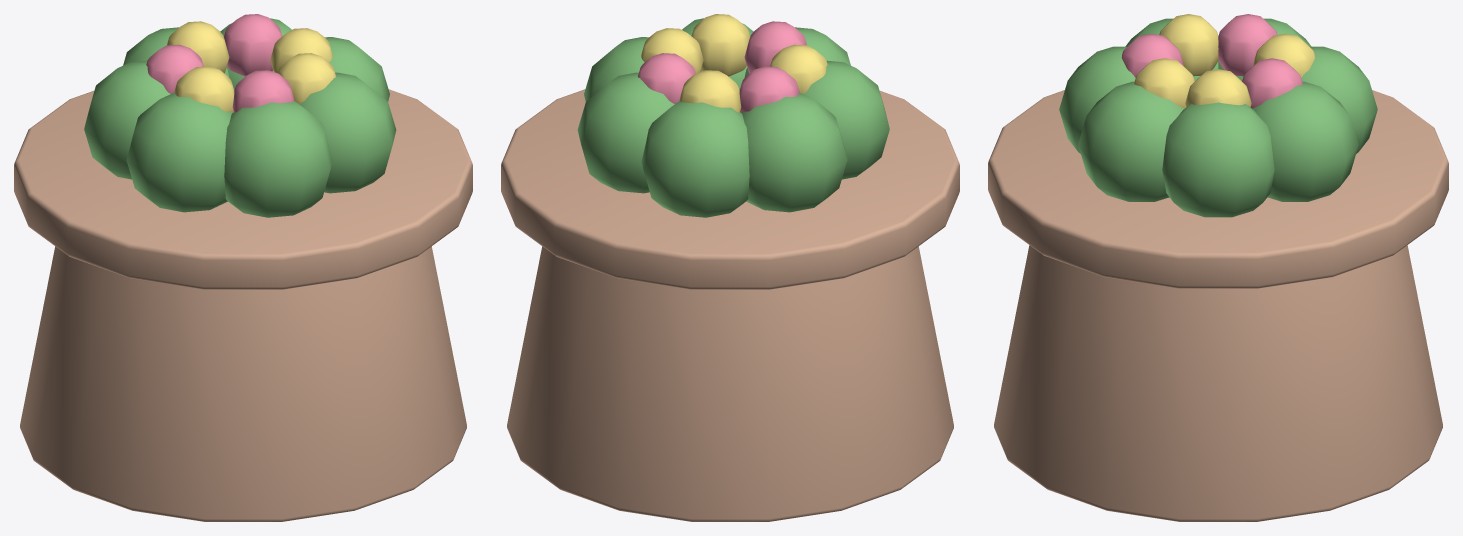
File: th6_blumenkuebel.glb
The picture shows the model from 3 angles, left to right: view 1: azimuth 30°, elevation 25°; view 2: azimuth 150°, elevation 25°; view 3: azimuth 270°, elevation 25°; orthographic projection.
Visible parts, largest first — view 1: Cone, Cylinder, Sphere.010, Sphere.008, Sphere.012, Sphere.006, Sphere.003, Sphere.009, Sphere, Sphere.013, Sphere.005, Sphere.011 (+3 smaller); view 2: Cone, Cylinder, Sphere.004, Sphere.006, Sphere.002, Sphere.008, Sphere.013, Sphere.007, Sphere, Sphere.003, Sphere.011, Sphere.005 (+3 smaller); view 3: Cone, Cylinder, Sphere, Sphere.002, Sphere.012, Sphere.004, Sphere.010, Sphere.007, Sphere.009, Sphere.003, Sphere.013, Sphere.001 (+2 smaller).
Part boxes in pixels (<box>): Cone: <box>20,246,466,521</box>; Cylinder: <box>14,89,472,289</box>; Sphere.010: <box>224,101,332,217</box>; Sphere.008: <box>126,93,232,212</box>; Sphere.012: <box>299,72,396,193</box>; Sphere.006: <box>84,60,170,179</box>; Sphere.003: <box>224,14,282,76</box>; Sphere.009: <box>174,66,234,112</box>; Sphere: <box>325,37,389,101</box>; Sphere.013: <box>278,53,335,103</box>; Sphere.005: <box>167,21,229,73</box>; Sphere.011: <box>232,70,294,112</box>; Cone: <box>507,246,953,521</box>; Cylinder: <box>501,89,959,289</box>; Sphere.004: <box>641,101,749,217</box>; Sphere.006: <box>741,93,847,212</box>; Sphere.002: <box>577,72,674,193</box>; Sphere.008: <box>803,60,889,179</box>; Sphere.013: <box>691,14,749,76</box>; Sphere.007: <box>739,66,799,112</box>; Sphere: <box>584,37,648,101</box>; Sphere.003: <box>638,53,695,103</box>; Sphere.011: <box>744,21,806,73</box>; Sphere.005: <box>679,70,741,112</box>; Cone: <box>994,245,1442,521</box>; Cylinder: <box>988,90,1448,288</box>; Sphere: <box>1162,102,1274,217</box>; Sphere.002: <box>1252,81,1358,201</box>; Sphere.012: <box>1078,81,1184,201</box>; Sphere.004: <box>1301,46,1377,153</box>; Sphere.010: <box>1059,46,1135,153</box>; Sphere.007: <box>1218,14,1277,76</box>; Sphere.009: <box>1159,14,1218,76</box>; Sphere.003: <box>1242,58,1302,108</box>; Sphere.013: <box>1134,58,1194,108</box>; Sphere.001: <box>1185,69,1251,106</box>.
Size of the model in its own units: 0.9257 by 0.87 by 0.94.
